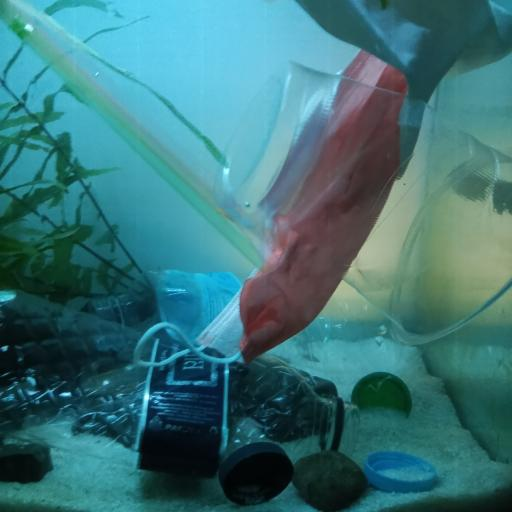bottle_cap: (217, 440, 296, 508), (363, 448, 438, 492), (351, 370, 412, 414)
glove: (297, 0, 512, 175)
mask: (142, 52, 442, 379)
plastic_bottle: (0, 286, 362, 474), (80, 268, 419, 372)
plastic_cup: (219, 63, 512, 344)
plastic_straw: (0, 0, 264, 264)
